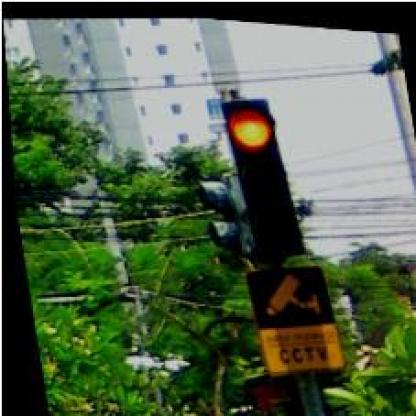red: (219, 92, 305, 253)
